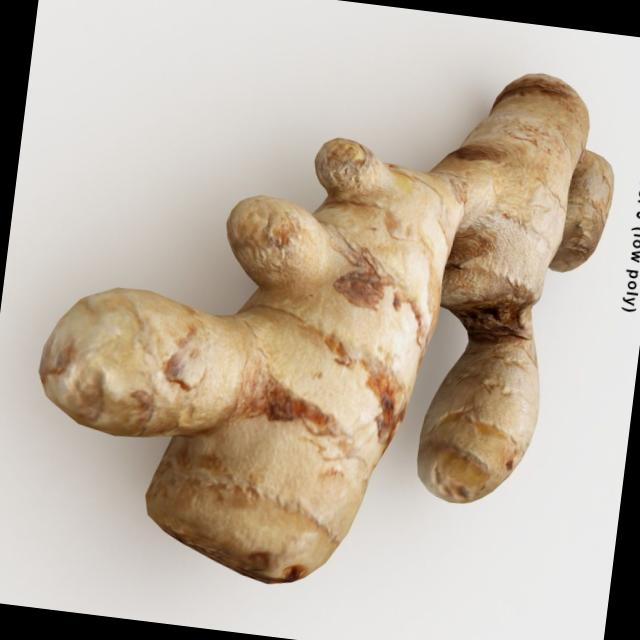ginger-root: (0, 6, 635, 637)
